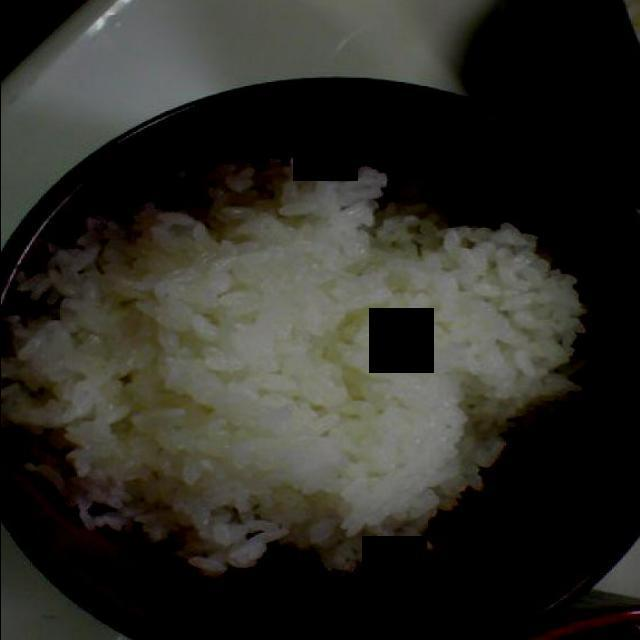rice: (0, 155, 601, 577)
